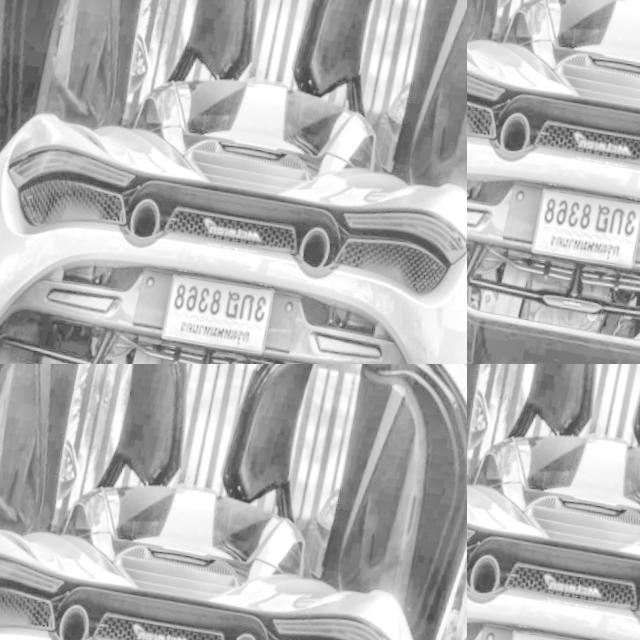license-plate: (505, 615, 624, 640)
